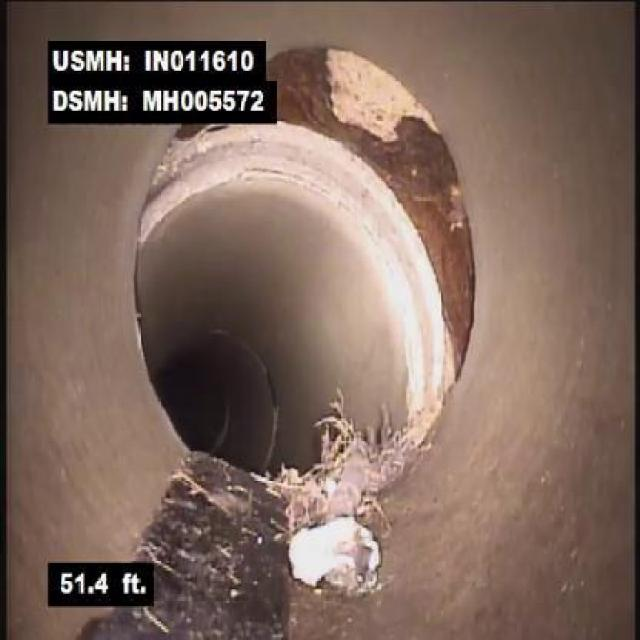Hole: (264, 40, 468, 225), (417, 223, 483, 388)
